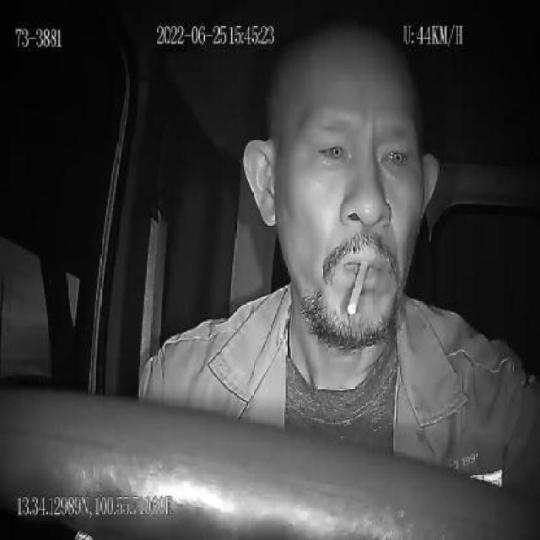smoking: (347, 260, 369, 318)
